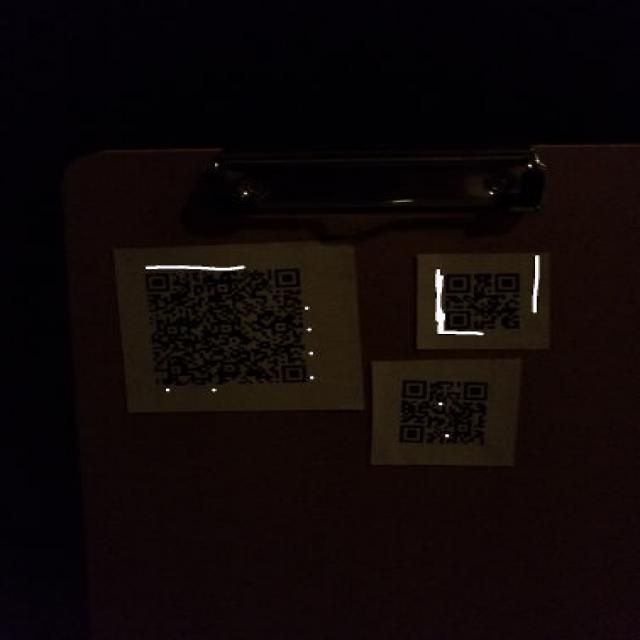QR_CODE: (136, 258, 318, 396), (388, 364, 496, 456), (432, 259, 536, 339)
